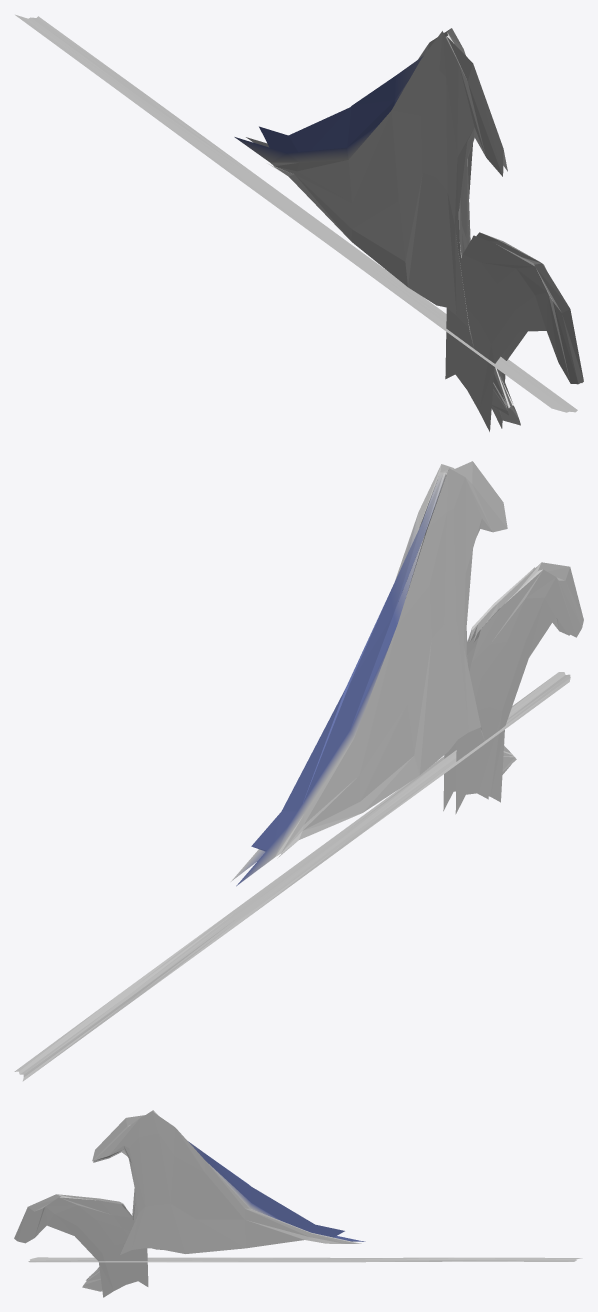
File: pref_fx_Cramorant_spell01A_bullet_lv1.fbx
3 views of the same model, one above another, from view 1: azimuth 30°, elevation 25°; view 2: azimuth 150°, elevation 25°; view 3: azimuth 270°, elevation 25° (orthographic). The views are drawn at different scales.
Parts seen in each view (by area): view 1: lang02, lang05, dimian; view 2: lang02, lang05, dimian; view 3: lang02, lang05, dimian.
Boxes of the visible parts, x1,y1,x2,y2 form: lang02: (234,28,520,425); lang05: (445,232,583,431); dimian: (15,14,577,412); lang02: (231,461,516,886); lang05: (443,562,583,814); dimian: (14,672,570,1081); lang02: (82,1110,365,1291); lang05: (14,1194,148,1297); dimian: (28,1257,582,1262).
Size of the model in its own units: 0.1279 by 2.4 by 6.67.
